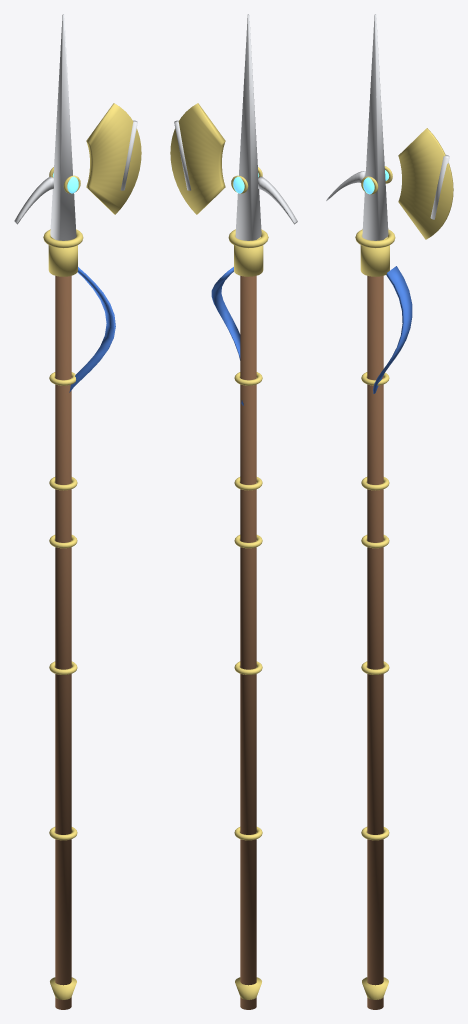
The model's file is weapon_halberd.glb.
3 renders of one model, left to right at view 1: azimuth 30°, elevation 25°; view 2: azimuth 150°, elevation 25°; view 3: azimuth 330°, elevation 25°, orthographic.
Visible parts, largest first — view 1: Alabarda_Reale; view 2: Alabarda_Reale; view 3: Alabarda_Reale.
Part boxes in pixels (box(x1,y1,x2,y2)): Alabarda_Reale: box(14, 14, 141, 1009); Alabarda_Reale: box(170, 14, 297, 1009); Alabarda_Reale: box(326, 14, 453, 1009).
Bounding box in the file's own units: 0.158 × 1.2 × 0.0574.
